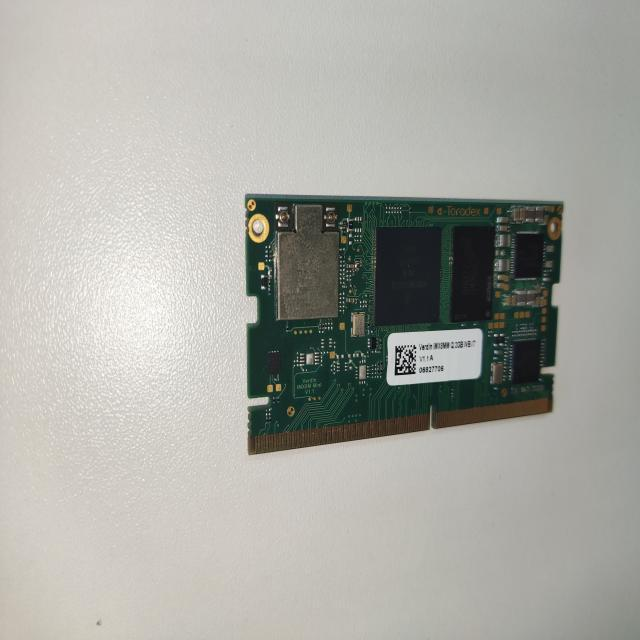som: (236, 184, 581, 462)
